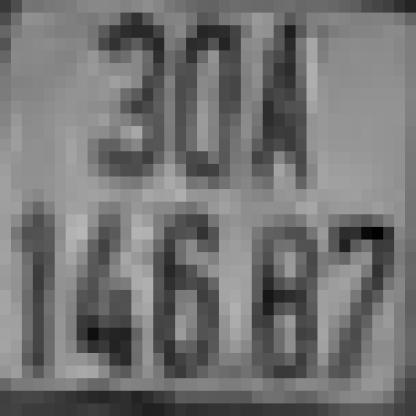0: (175, 25, 230, 189)
1: (11, 202, 66, 366)
3: (99, 13, 164, 176)
4: (66, 202, 142, 353)
6: (153, 202, 219, 366)
7: (318, 214, 383, 353)
8: (230, 202, 306, 366)
A: (241, 25, 306, 189)
